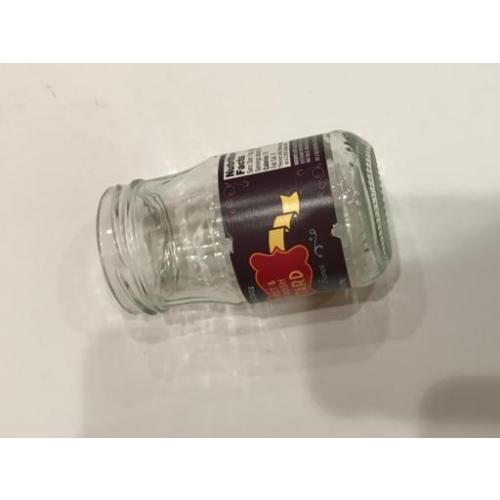glass: (102, 130, 384, 320)
